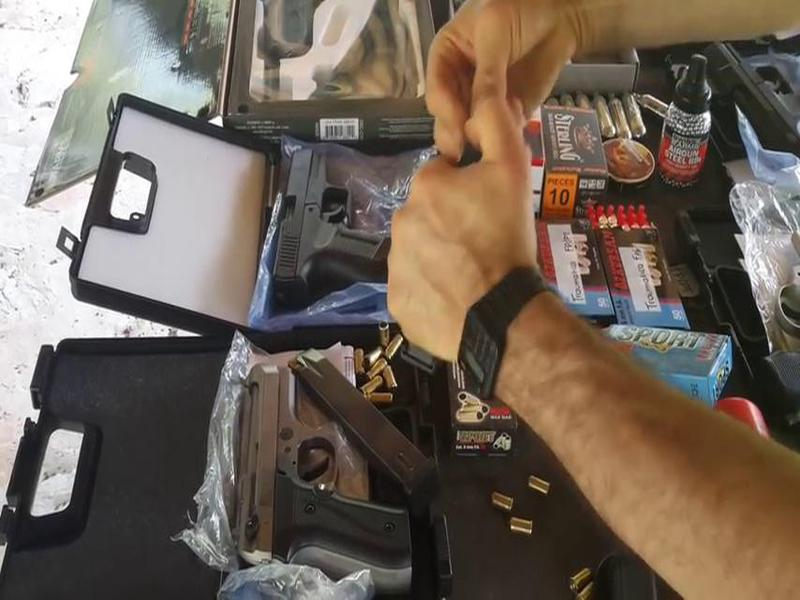Pistola: (214, 356, 444, 574), (269, 126, 429, 304)
